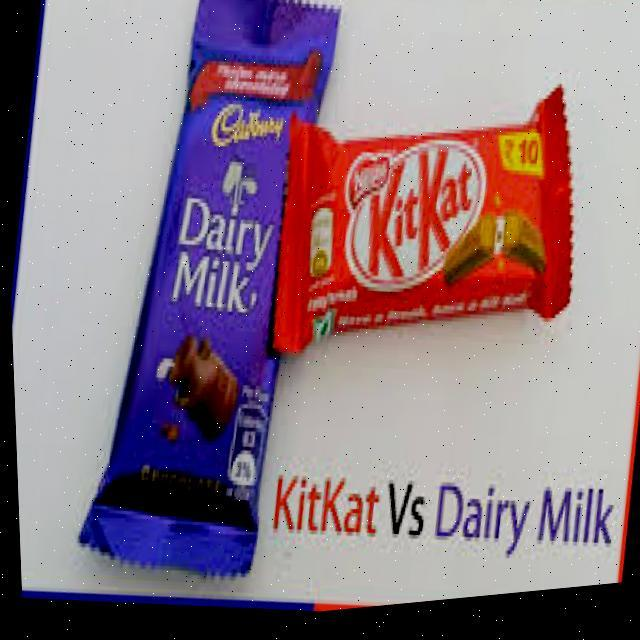cadbury_chocolate: (132, 19, 336, 588)
kitkat_chocolate: (290, 127, 567, 325)
